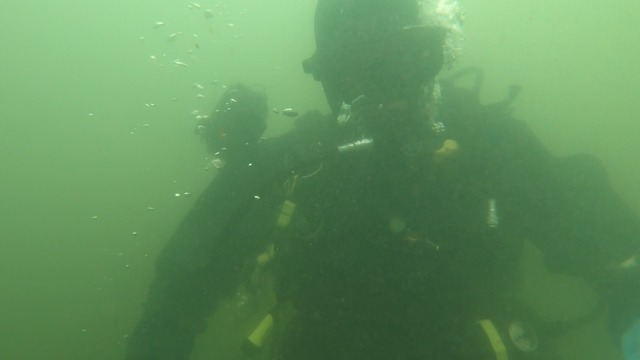Diver: (100, 2, 633, 352)
Head: (297, 3, 476, 187)
